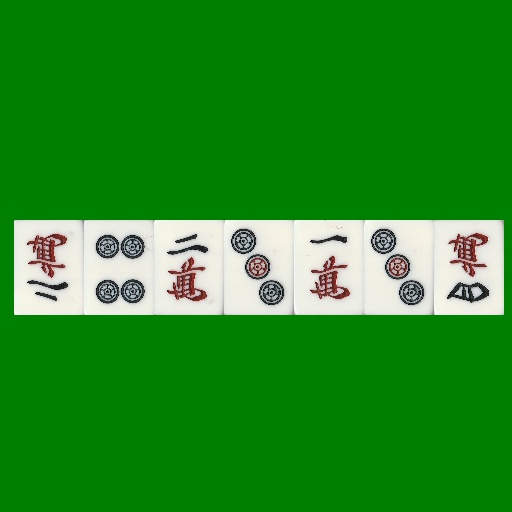1m: (294, 220, 364, 315)
2m: (14, 220, 84, 315), (154, 220, 224, 315)
3p: (224, 220, 294, 315), (364, 220, 434, 315)
4m: (434, 220, 504, 315)
4p: (84, 220, 154, 315)
